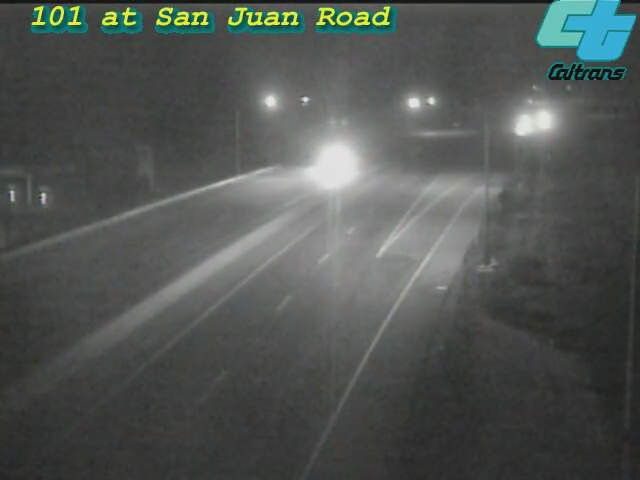vehicle: (311, 135, 361, 185), (496, 107, 546, 157), (501, 96, 551, 146), (520, 94, 570, 144)
